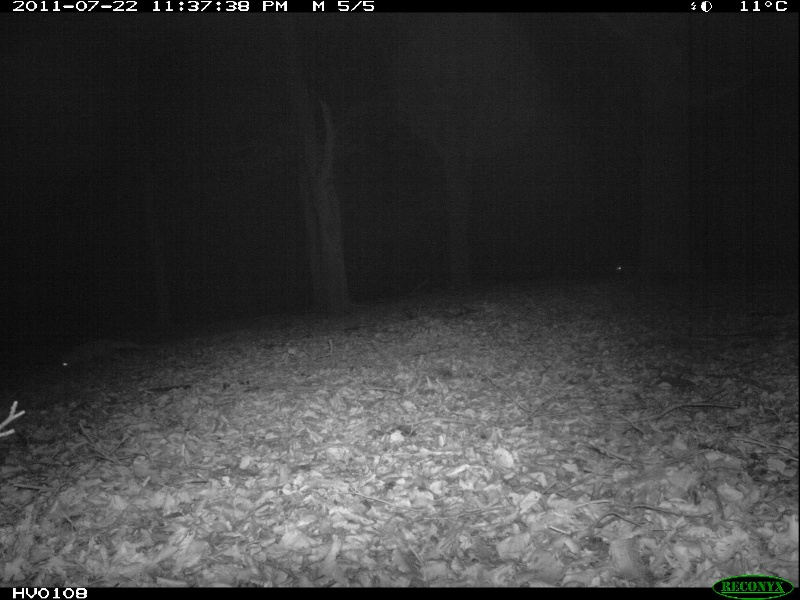fox: (58, 339, 142, 368), (609, 260, 644, 283)
